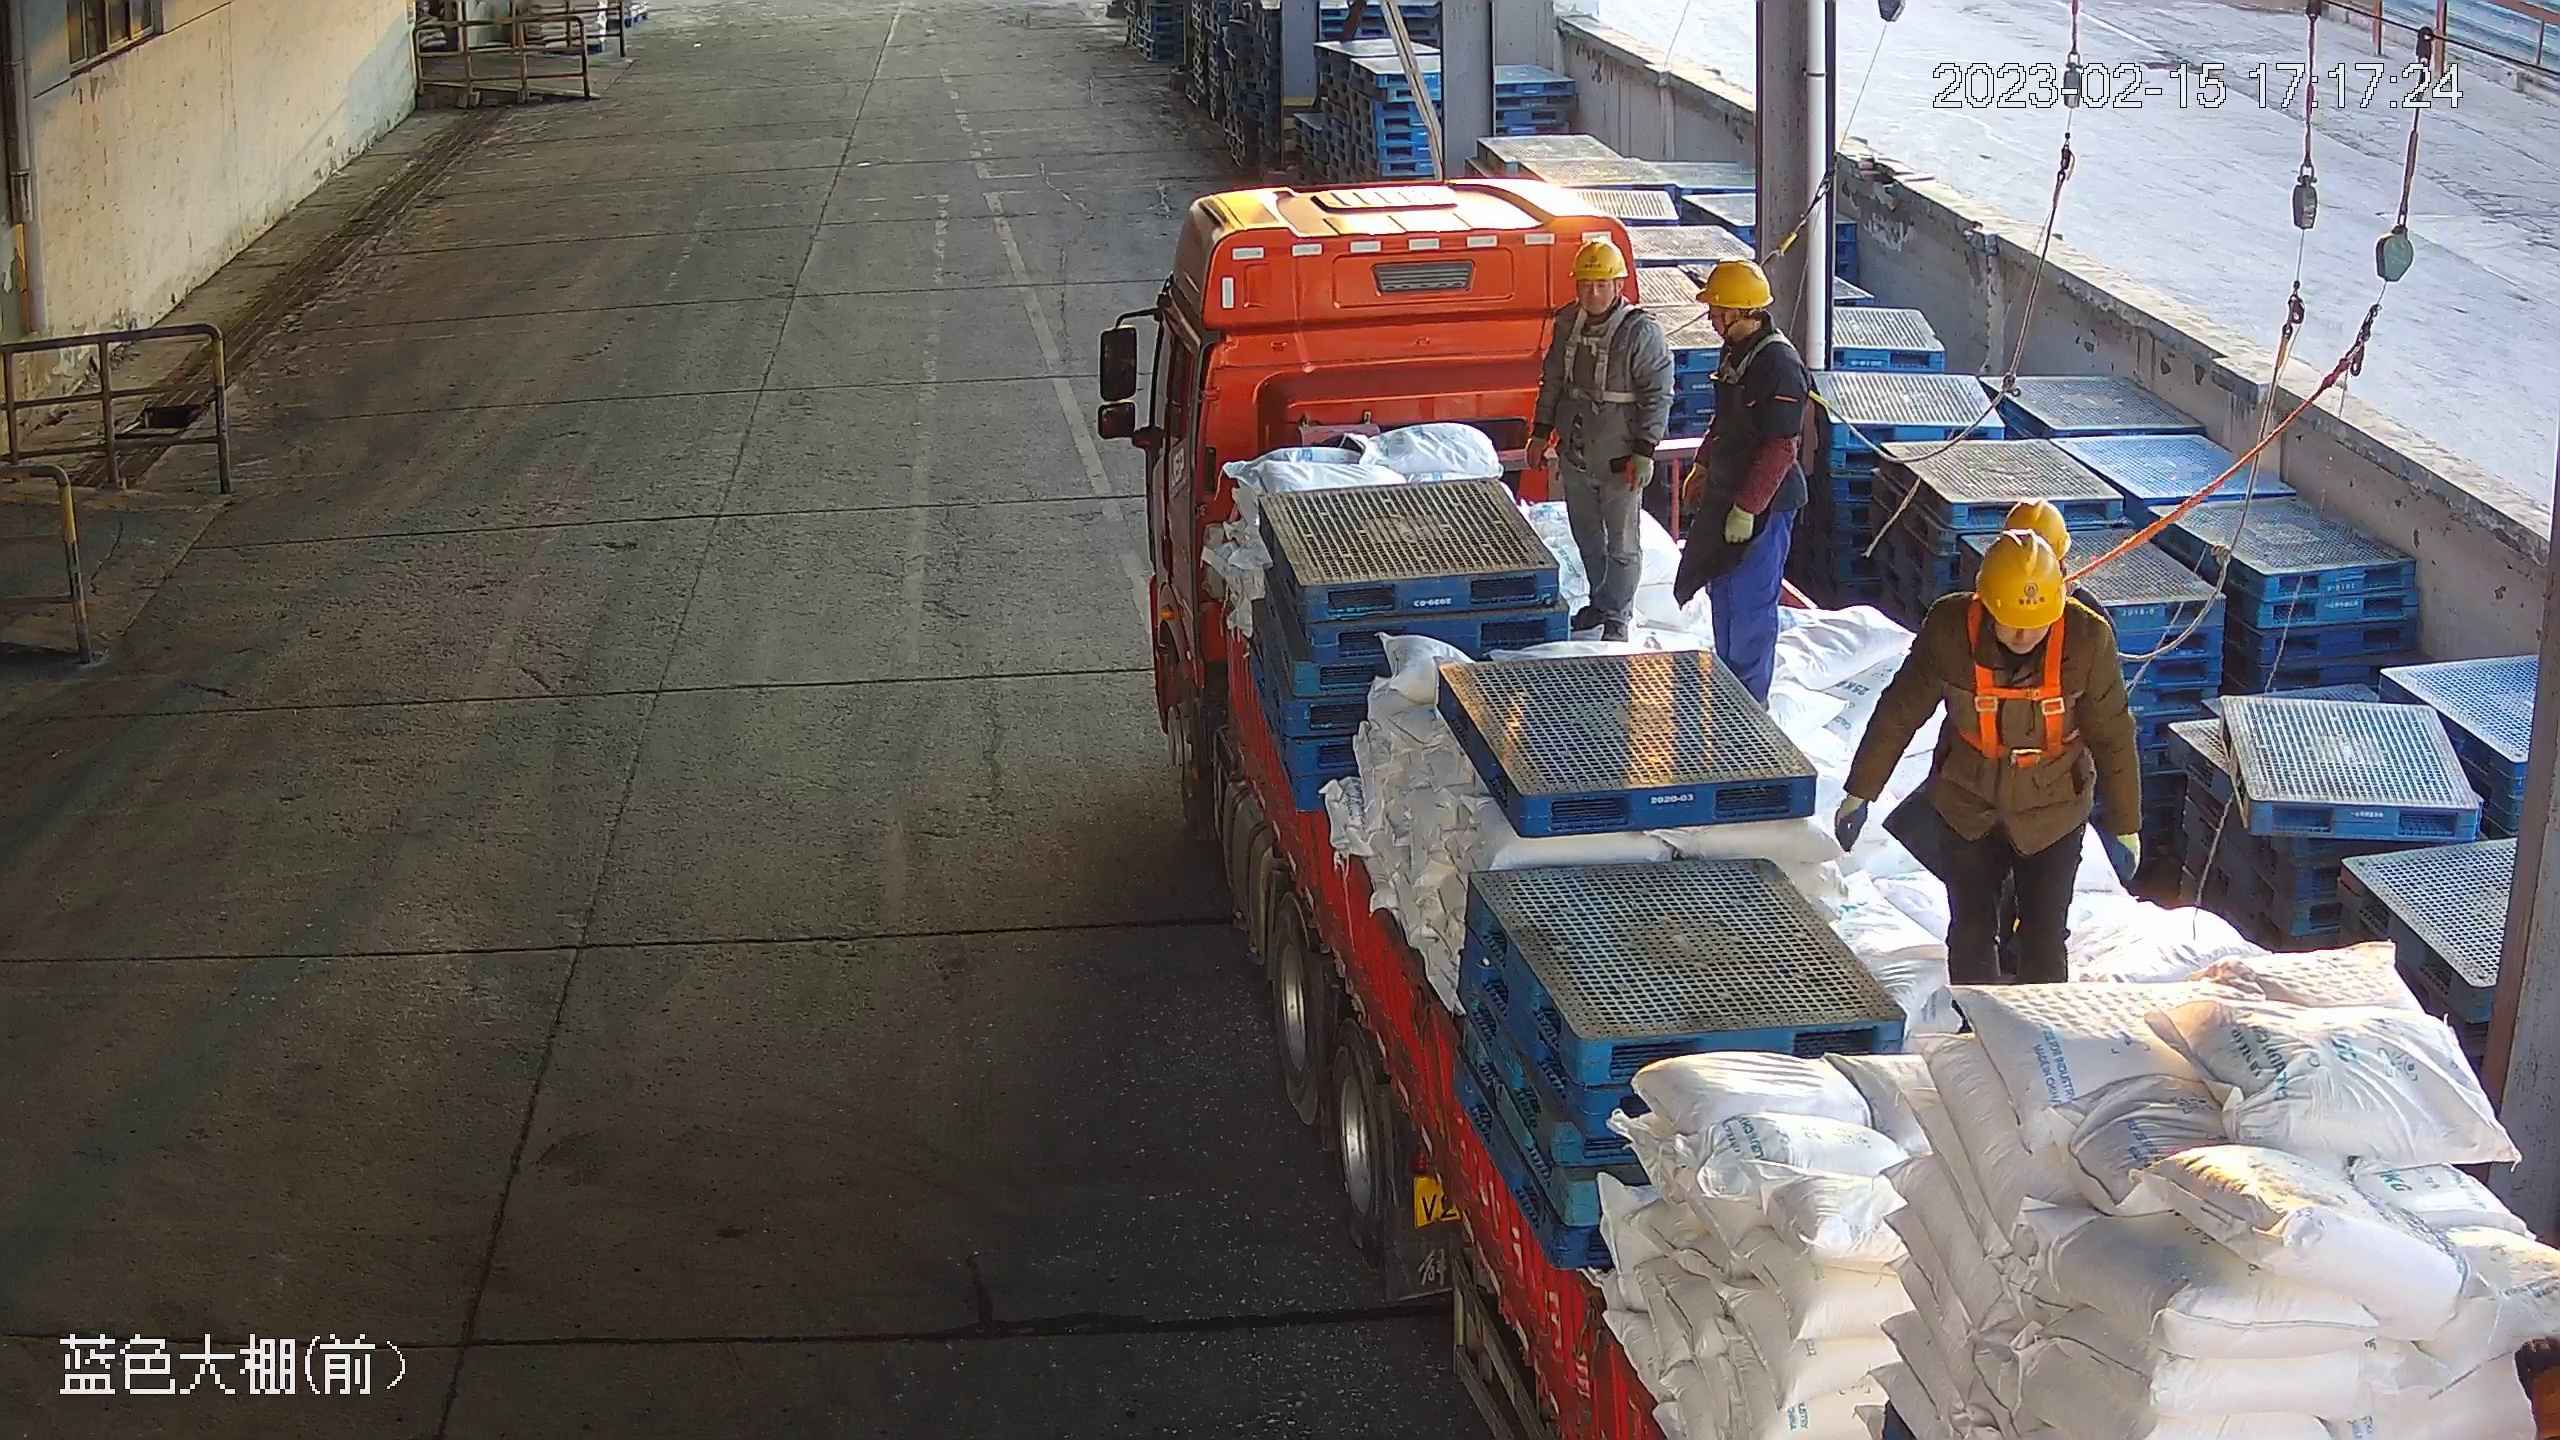belt: (1946, 595, 2079, 768), (1555, 310, 1642, 403), (1718, 332, 1788, 392)
head: (1873, 538, 2123, 705), (1681, 268, 1825, 403), (1531, 238, 1657, 366)
helmet: (1964, 529, 2083, 642), (1692, 251, 1766, 325), (1572, 234, 1623, 281)
people: (1825, 527, 2155, 1001), (1662, 251, 1820, 721), (1531, 236, 1659, 638)
truck: (1092, 168, 2560, 1440)
